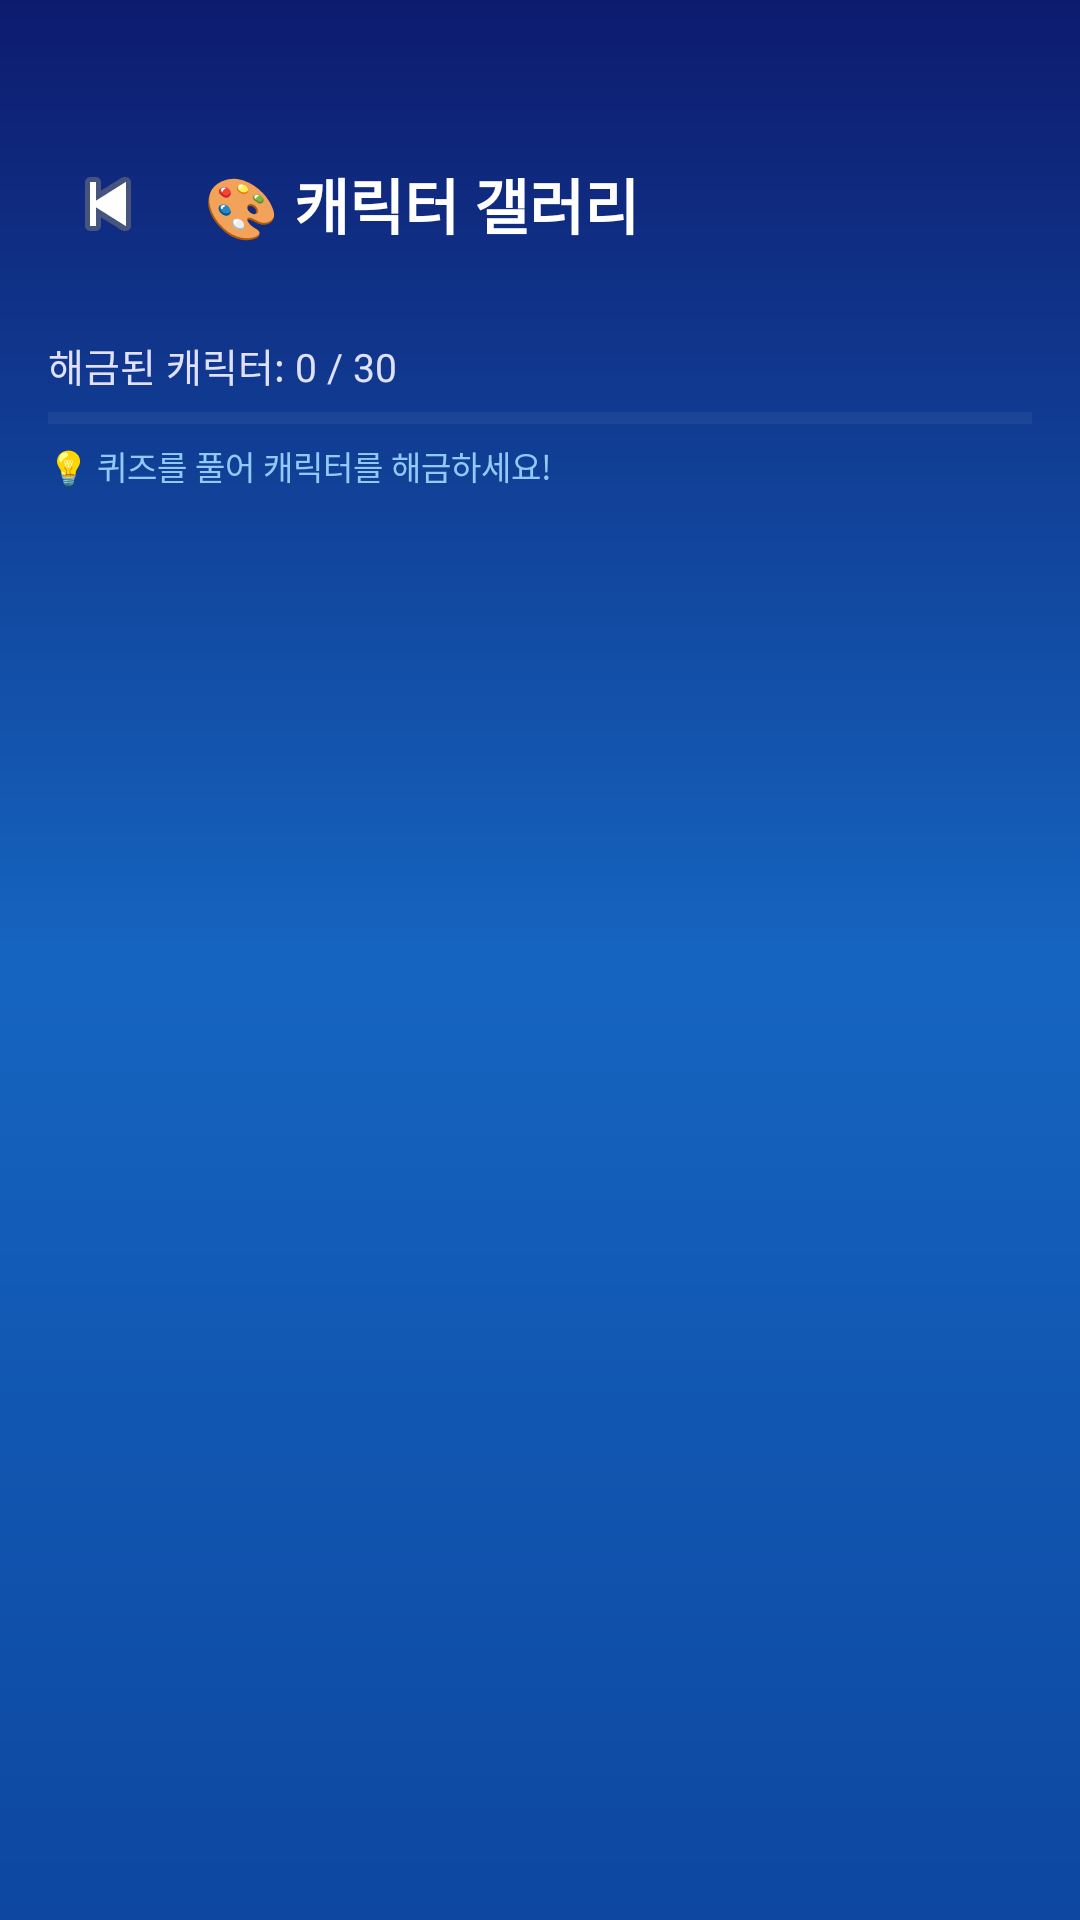

Screen size 1080*1920. Icon name, then its box in pixels as (x1,y1,x2,y2):
뒤로: (85,177,131,231)
